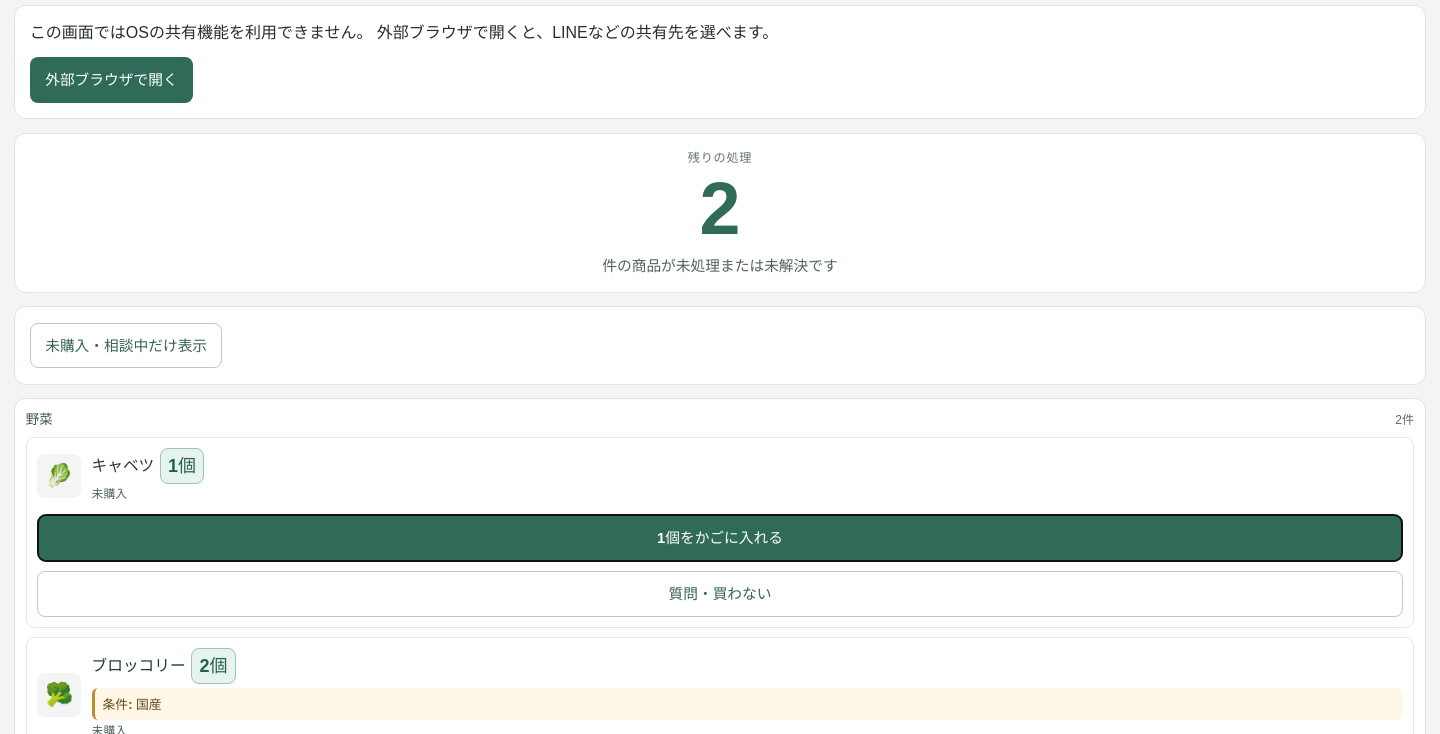
Test case: ShoppingListPage buyer flow › compacts only a confirmed purchase, opens details, resets and restores compact status through Undo
Click the button "1個をかごに入れる" at [720, 538], box [37,514,1403,562]
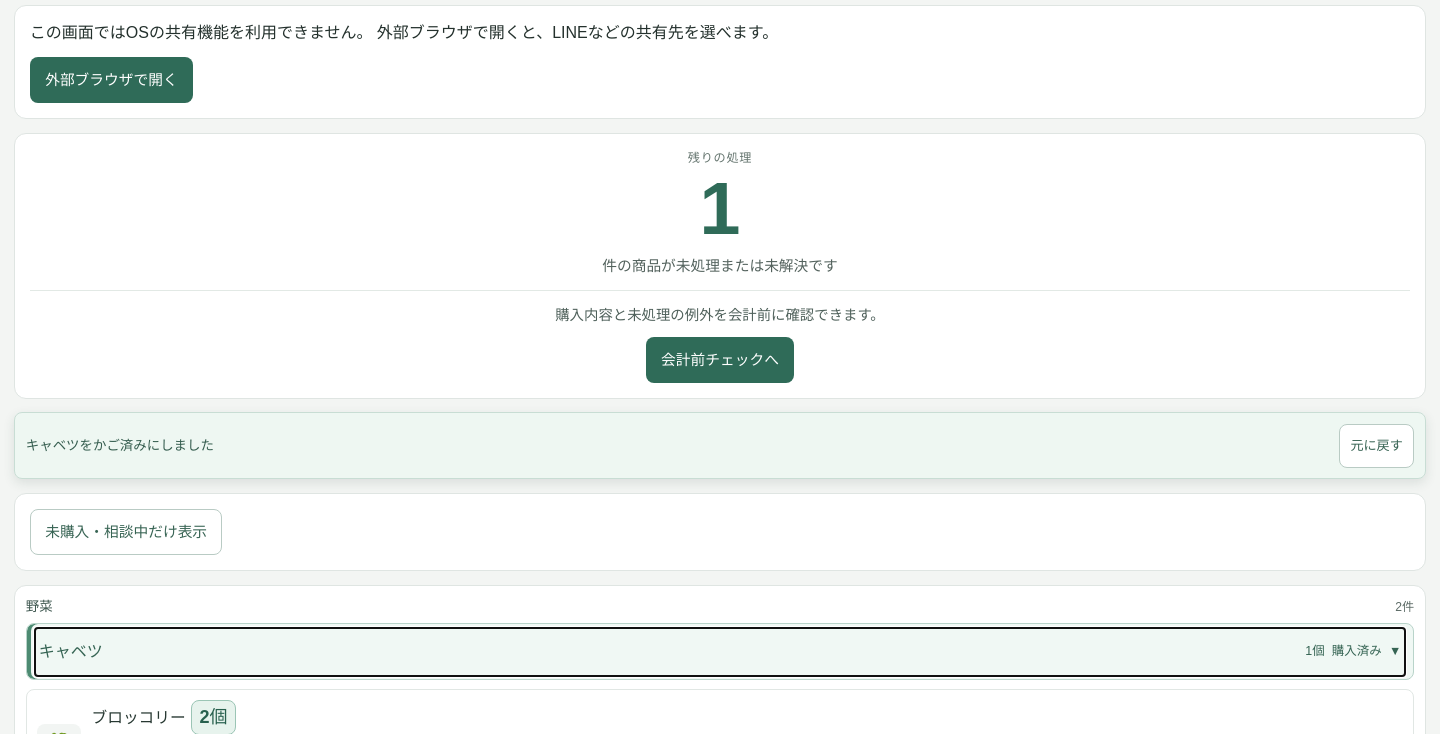
Check: the element showing "キャベツ 1個 購入済み ▼" has class "is-compact", box [26,623,1414,680]
Click the button with class "shopping-compact-summary" at [71, 651], box [35,628,1405,676]
(page scrolled)
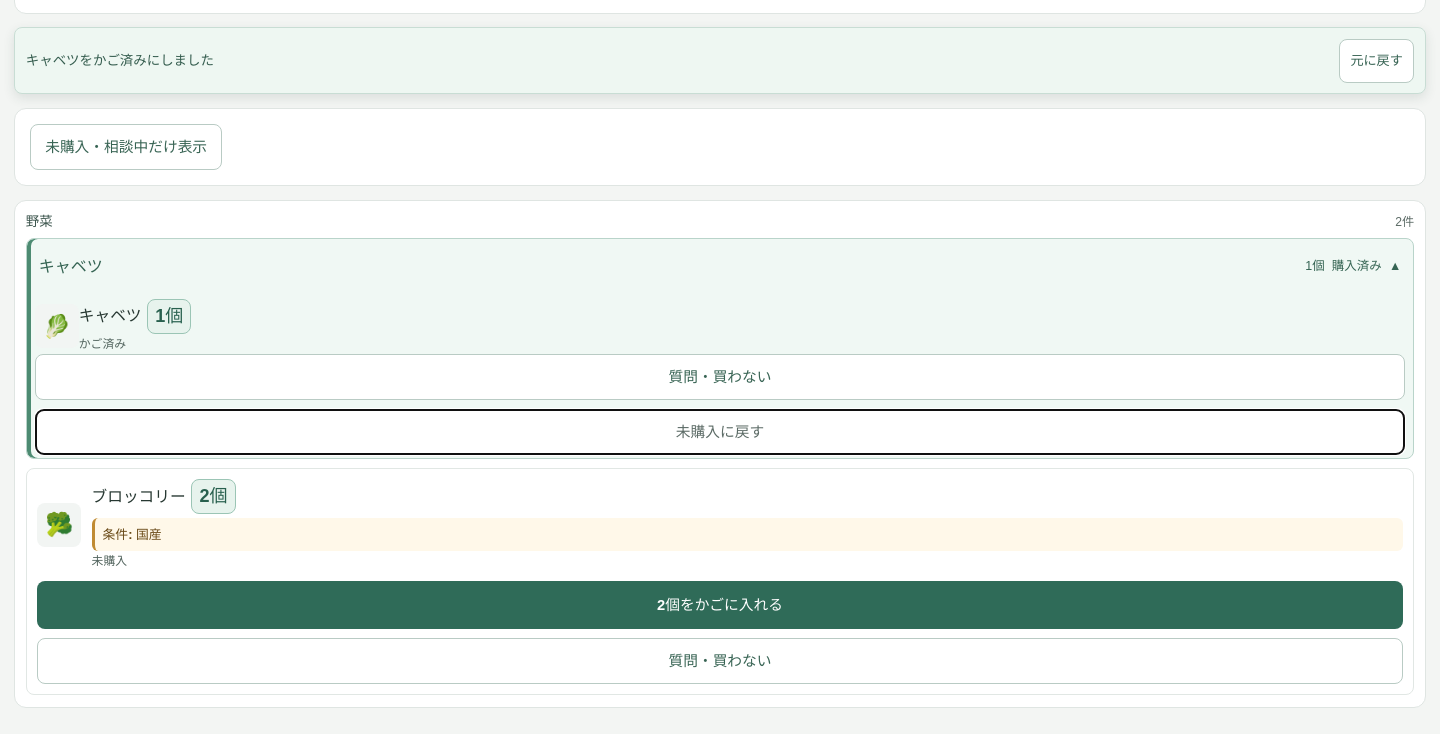
Check: the button with class "shopping-compact-summary" is expanded, box [35,242,1405,290]
Click the button "未購入に戻す" at [720, 432], box [35,409,1405,454]
(page scrolled)
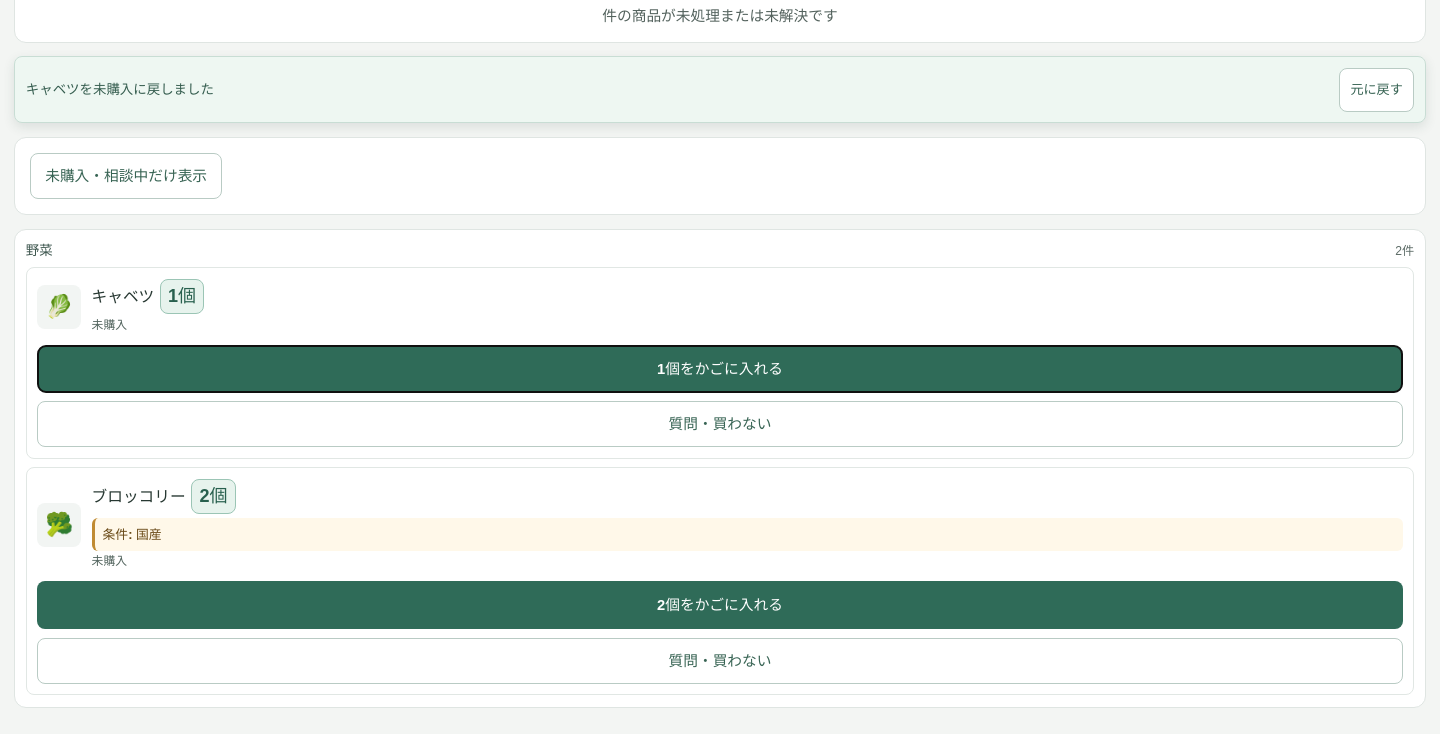
Click the button "元に戻す" at [1377, 90], box [1339,68,1414,112]
(page scrolled)
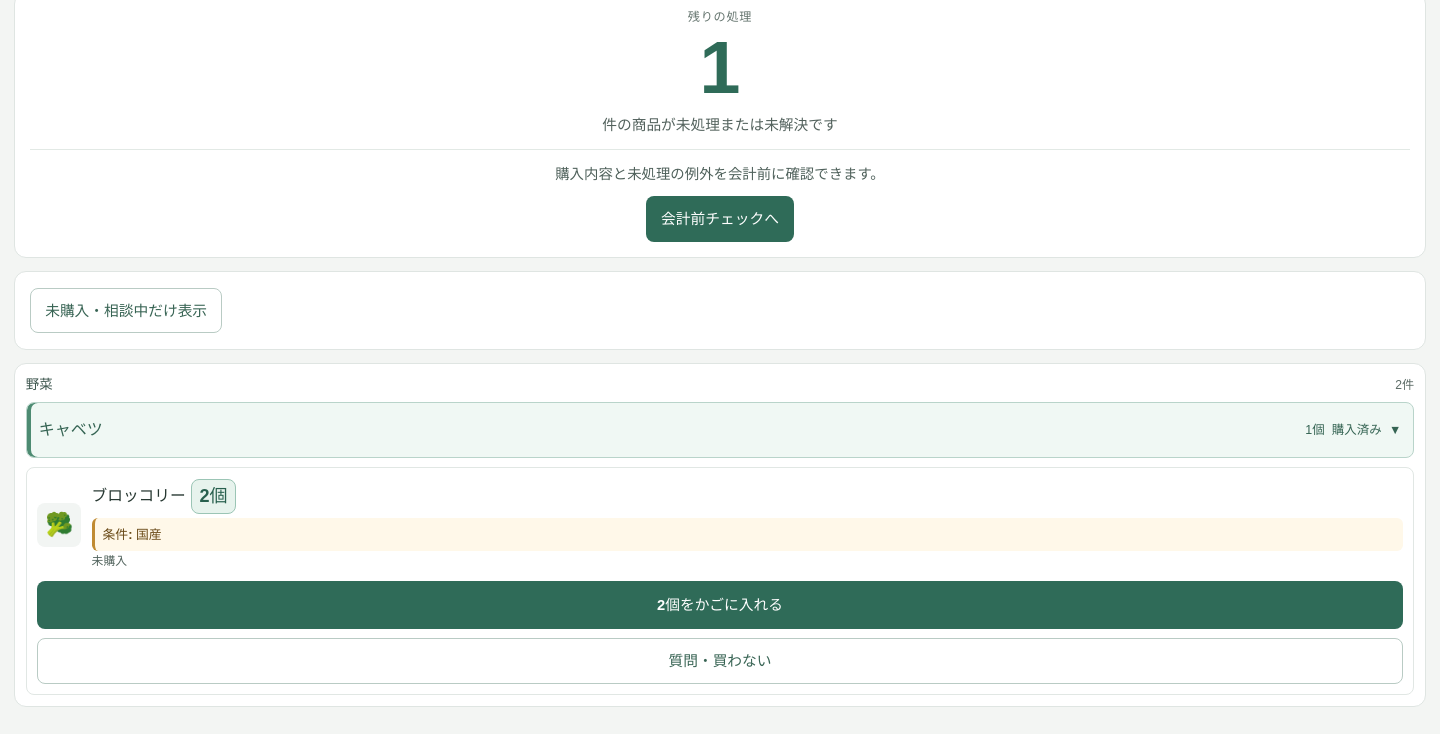
Check: the element showing "キャベツ 1個 購入済み ▼" has class "is-compact", box [26,402,1414,458]
Click the button "2個をかごに入れる" at [720, 605], box [37,581,1403,629]
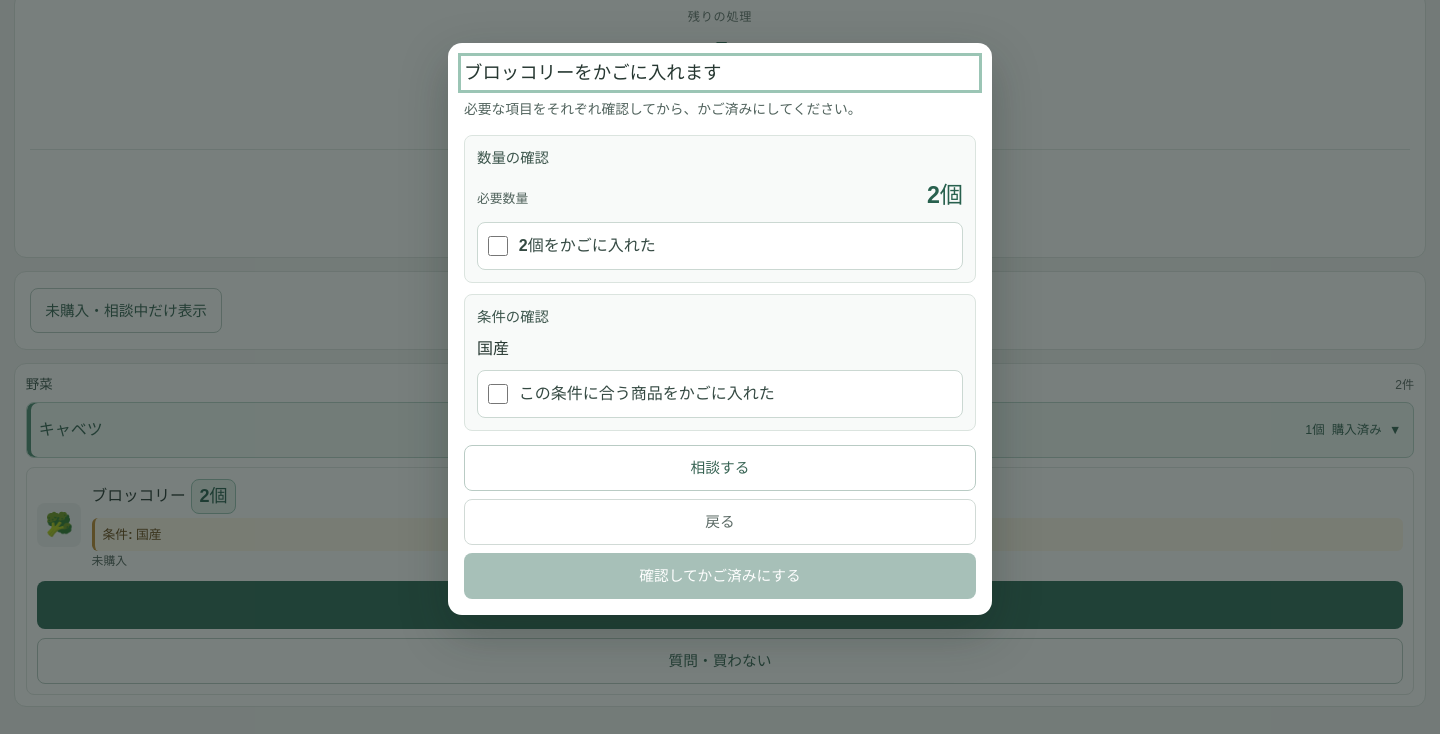
Check: the number of elements with class "is-compact" is 1, box [26,402,1414,458]
Check: the dialog is shown, box [448,43,992,615]
